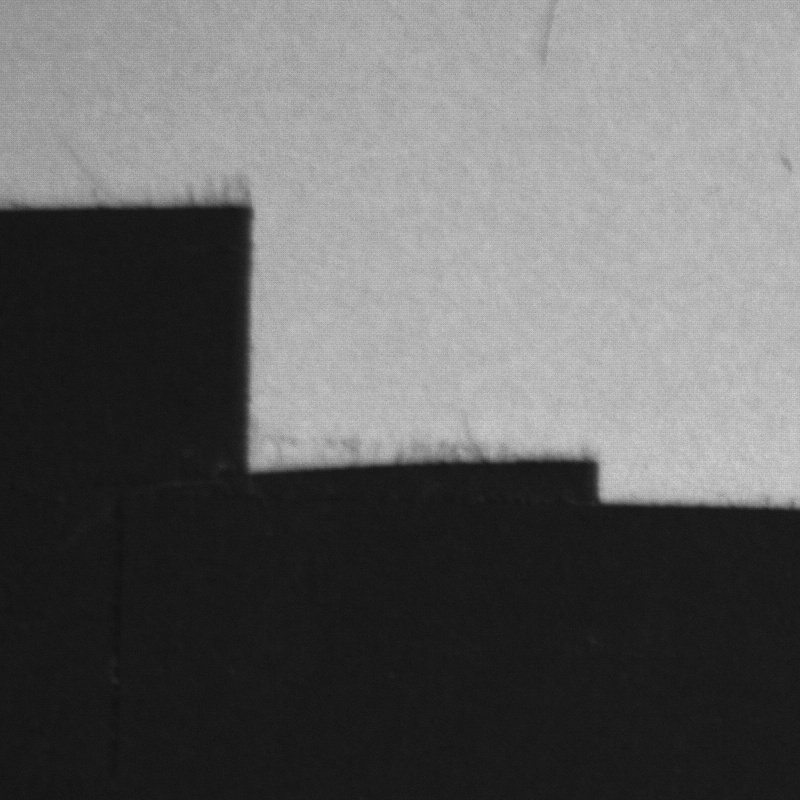defect: (540, 1, 558, 63), (779, 156, 793, 172)
